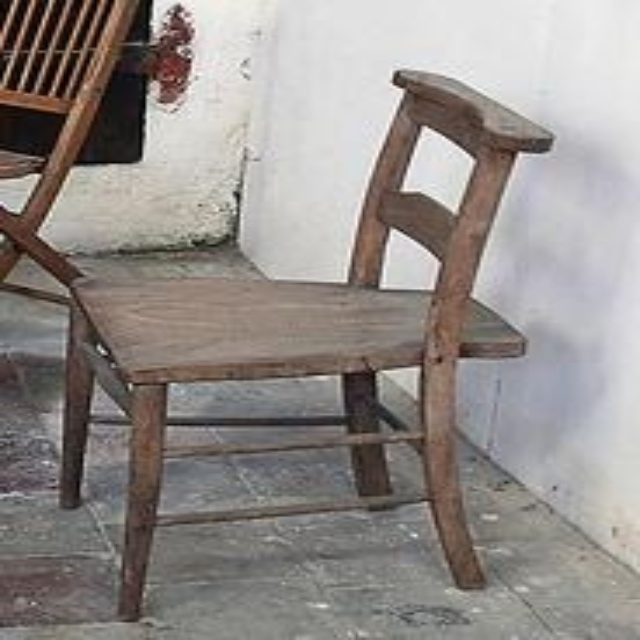obstacle: (59, 71, 550, 617)
